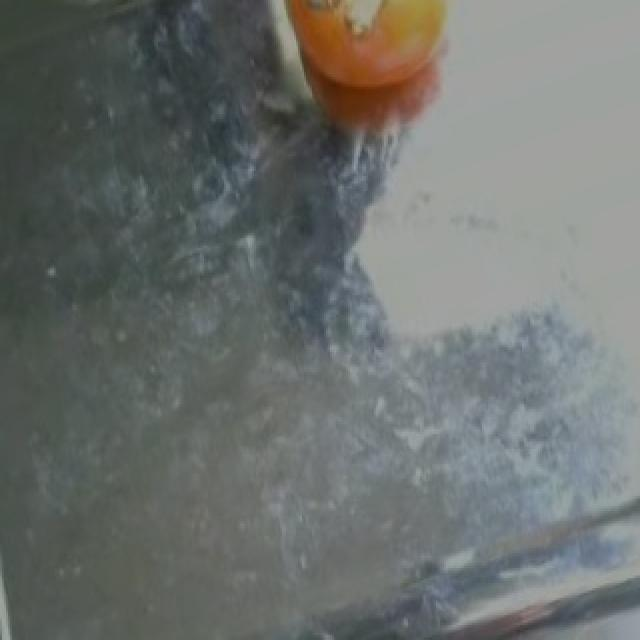Fruit: (258, 0, 480, 166)
